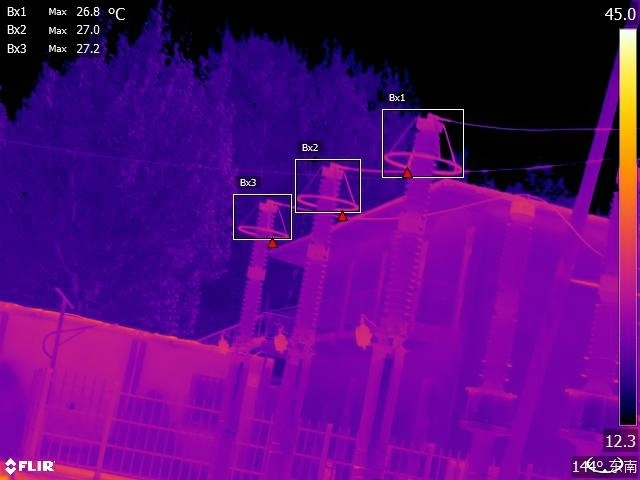lightning arrester: (361, 111, 469, 354), (278, 155, 361, 395), (223, 191, 290, 360)
potential transformer: (459, 193, 546, 436)
